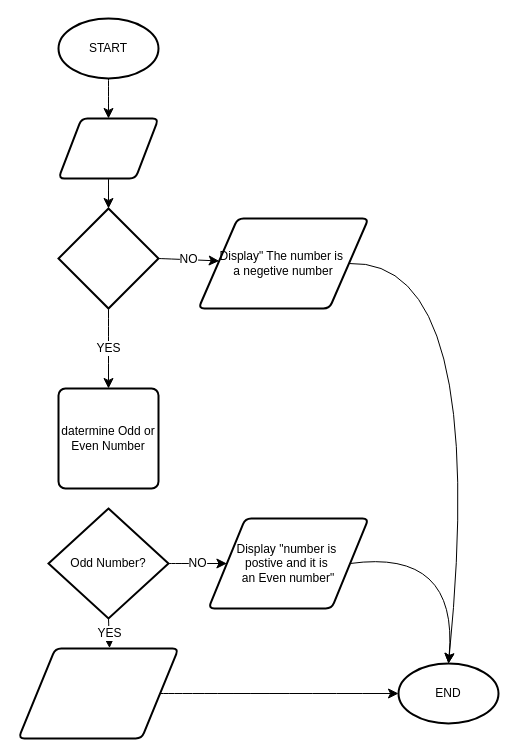
Some shapes in this 516 by 756 pixel diagram are drawn without their labels. Here are the shapes that lost their labels. From the top down, the centre of each, then its label:
point (108, 148): INPUT ANY NUMBER
point (108, 258): Number is positive?
point (98, 693): Display "number is postive and it is an Odd number"
